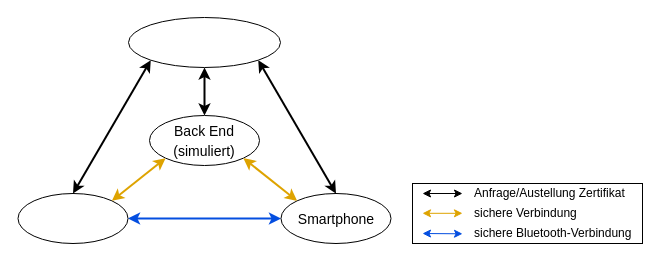
Some shapes in this 660 by 261 pixel diagram are drawn without their labels. The centre of each missing label's shape, as x and y in pixels:
"Mikrocontroller" goes at point (72, 218).
"Zertifizierungsstelle (simuliert)" goes at point (204, 42).
